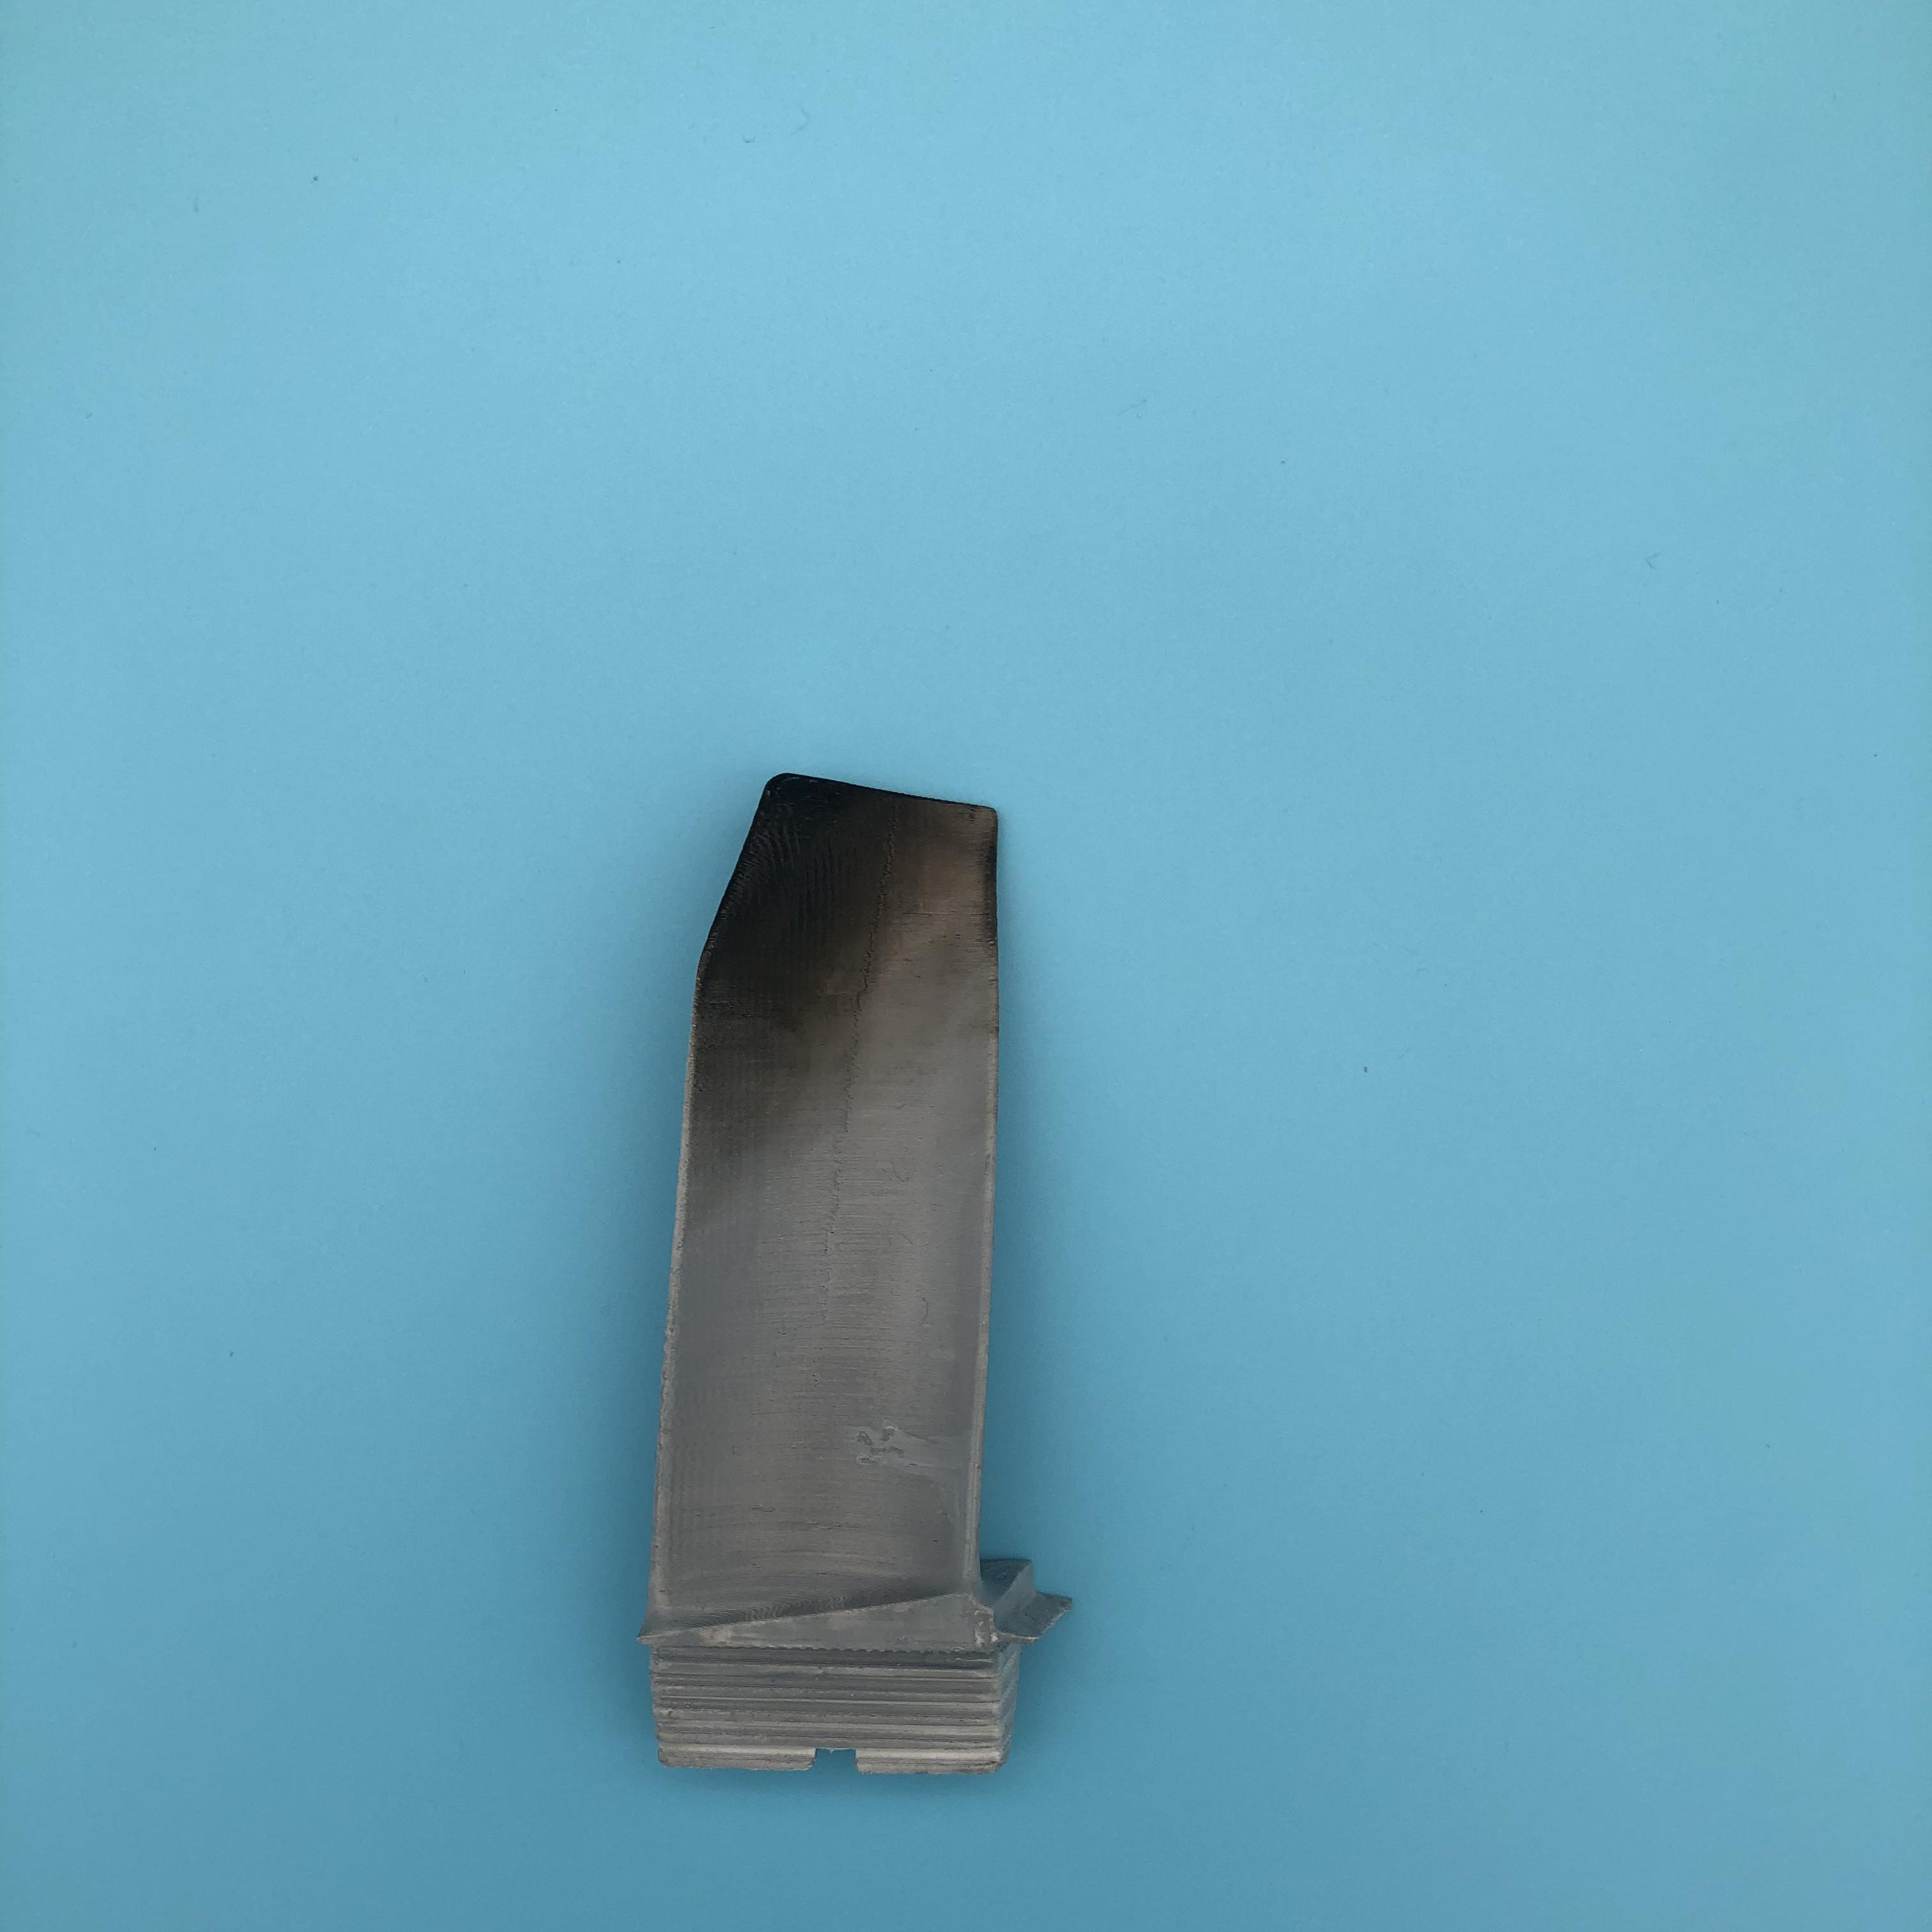ablation: (701, 791, 977, 1120)
